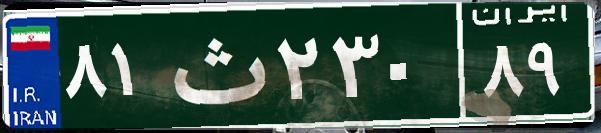0: (385, 28, 445, 110)
1: (110, 28, 158, 105)
2: (273, 28, 330, 110)
3: (330, 28, 385, 110)
8: (57, 26, 110, 107), (475, 38, 525, 113)
9: (525, 38, 570, 115)
ث: (158, 15, 273, 115)
